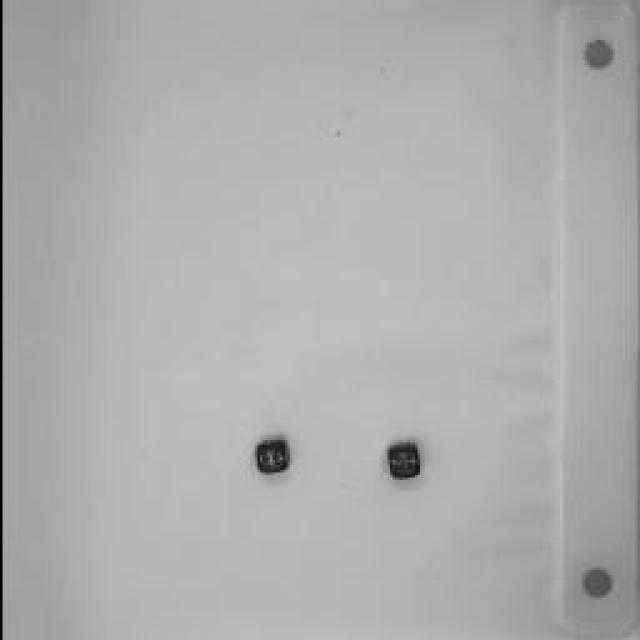dice_4: (382, 445, 420, 480)
dice_6: (252, 438, 288, 474)
